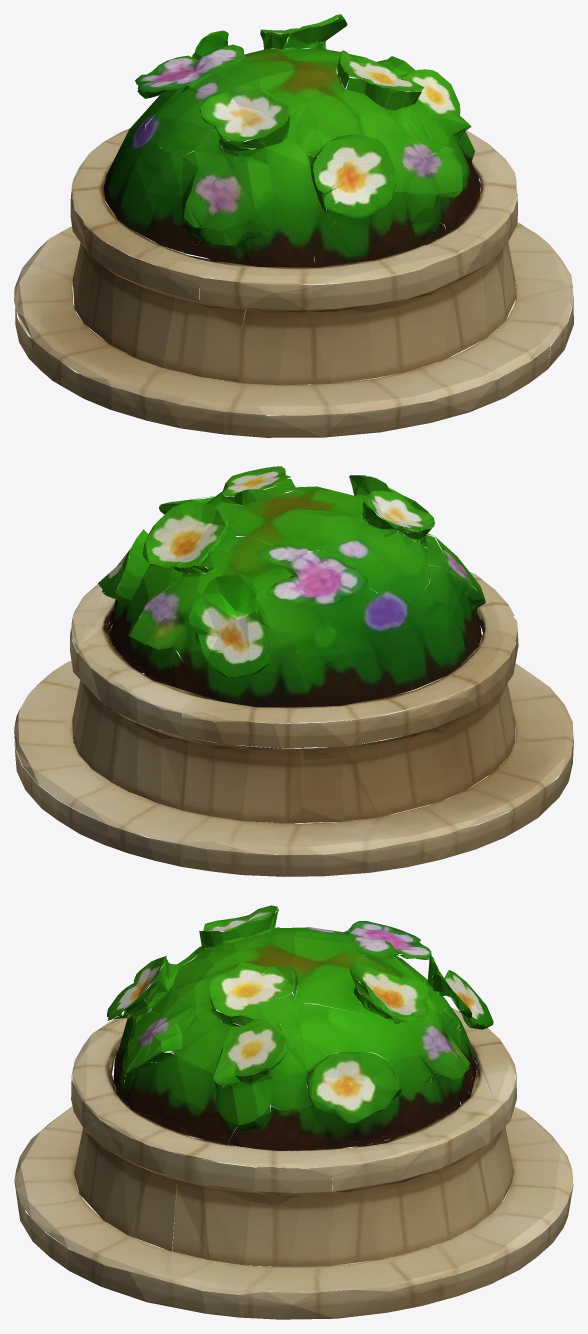
The model's file is circle_flowers.glb.
The picture shows the model from 3 angles, top to bottom: view 1: azimuth 30°, elevation 25°; view 2: azimuth 150°, elevation 25°; view 3: azimuth 270°, elevation 25°; orthographic projection.
Visible parts, largest first — view 1: geometry_0; view 2: geometry_0; view 3: geometry_0.
Boxes of the visible parts, x1,y1,x2,y2 form: geometry_0: (14, 14, 573, 437); geometry_0: (14, 466, 573, 876); geometry_0: (14, 905, 573, 1319).
Size of the model in its own units: 1 by 0.5184 by 0.9999.
Materials: 1 (1 with a texture image).
